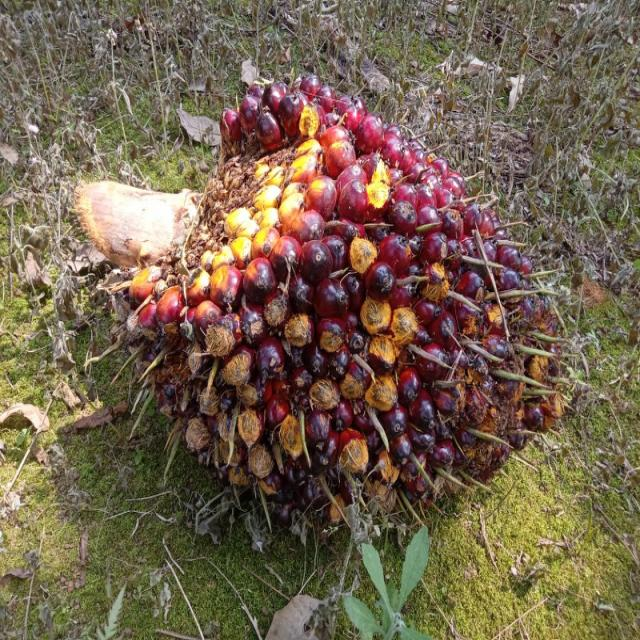fraksi 1: (108, 27, 612, 618)
